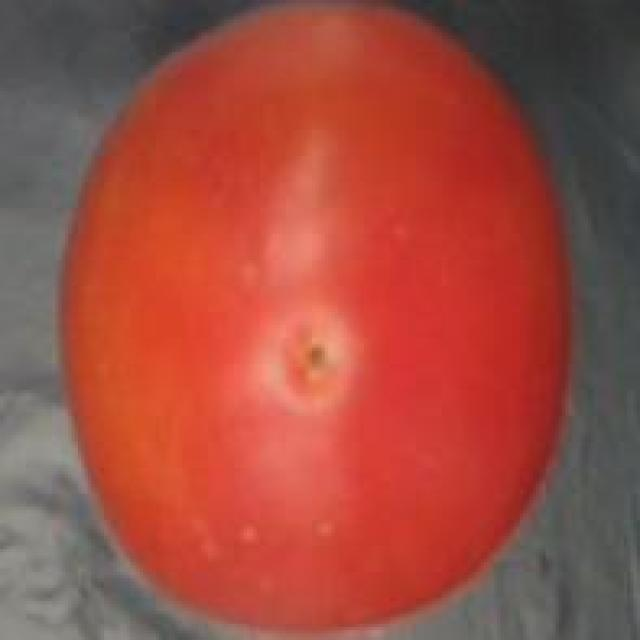ripe tomato: (52, 0, 588, 640)
